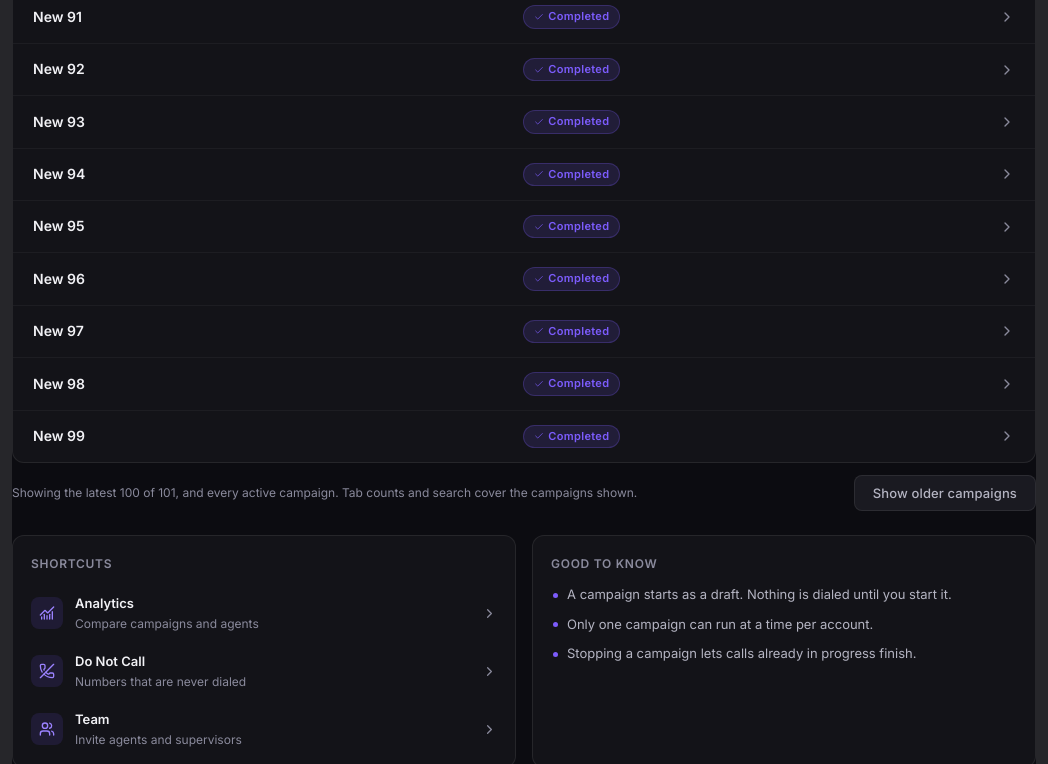
AgencyCampaignsPage — the list › re-reads a row on an older page that has left the active set since it was loaded
(page scrolled)
Click the button "Show older campaigns" at (945, 493), box [854, 475, 1036, 511]
Wait 10000 ms
(page scrolled)
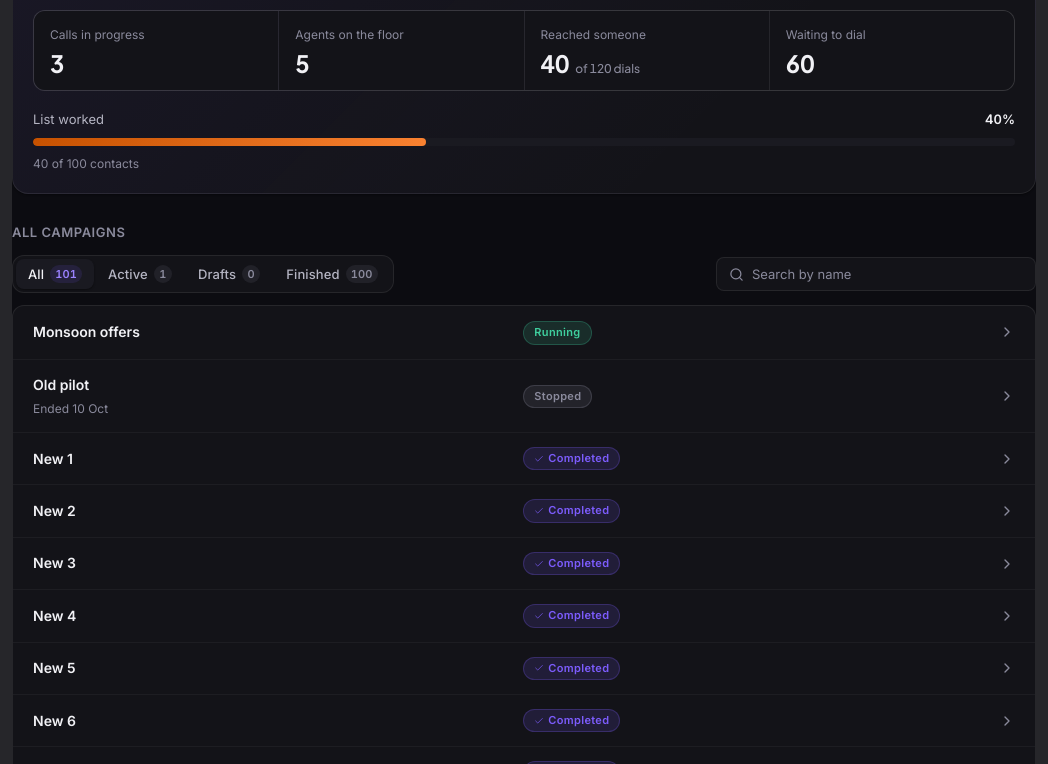
expect the text "Old pilot" is shown: met, box [33, 376, 89, 392]
expect the text "Showing the latest" is gone: met
